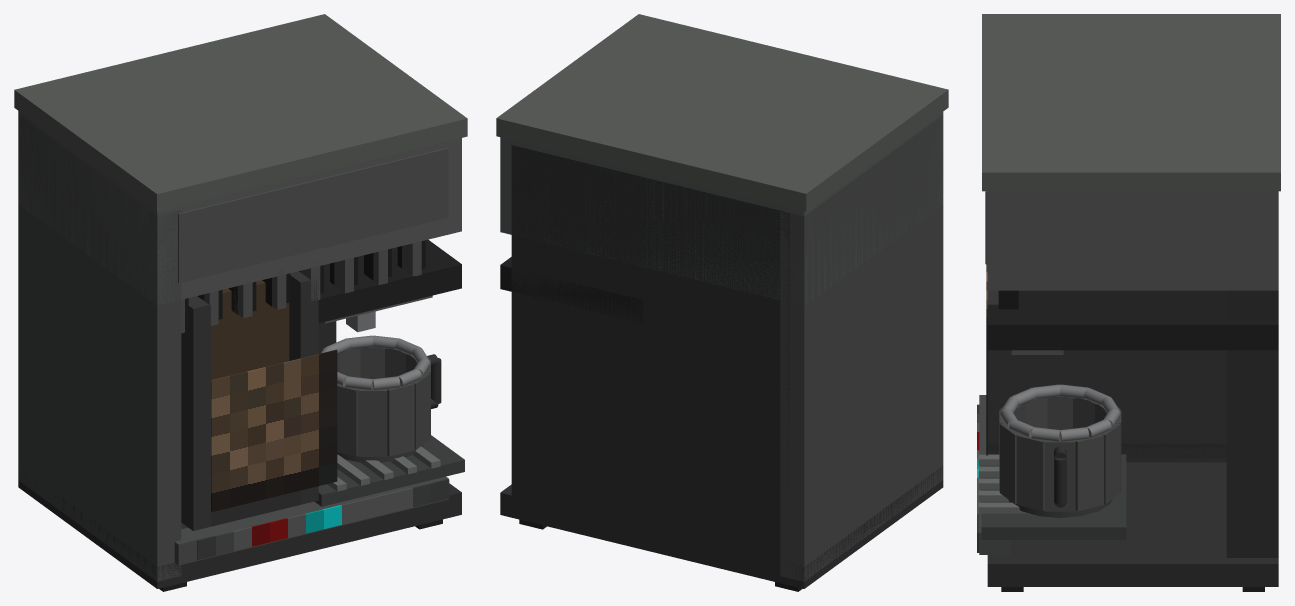
The model's file is CMU3DCoffeeMachineCloud.glb.
3 views of the same model, side by side, from view 1: azimuth 30°, elevation 25°; view 2: azimuth 150°, elevation 25°; view 3: azimuth 270°, elevation 25° (orthographic). The views are drawn at different scales.
Parts seen in each view (by area): view 1: left full height side, separate top cover, top hopper housing, hopper front inset, original coarse bean window, low machine deck, bean reservoir left frame, original red cyan indicator row, dispensing bay roof, source brown reservoir volume, cup tray, bottom control panel (+10 smaller); view 2: machine rear cabinet, left full height side, separate top cover, top hopper housing, low machine deck, dispensing bay roof; view 3: separate top cover, top hopper housing, low machine deck, bean reservoir right frame, dispensing bay roof, machine rear cabinet, cup tray, cup wall facet 1, cup wall facet 11, bean reservoir bottom, cup wall facet 0, cup wall facet 2 (+9 smaller).
Boxes of the visible parts, left/top/right/bottom form: left full height side: left=18, top=114, right=181, bottom=581; separate top cover: left=14, top=14, right=467, bottom=212; top hopper housing: left=18, top=111, right=461, bottom=305; hopper front inset: left=178, top=148, right=448, bottom=283; original coarse bean window: left=211, top=349, right=337, bottom=511; low machine deck: left=18, top=467, right=461, bottom=588; bean reservoir left frame: left=181, top=296, right=210, bottom=530; original red cyan indicator row: left=197, top=479, right=449, bottom=559; dispensing bay roof: left=318, top=239, right=461, bottom=323; source brown reservoir volume: left=211, top=280, right=289, bottom=379; cup tray: left=314, top=435, right=464, bottom=506; bottom control panel: left=174, top=476, right=448, bottom=565; machine rear cabinet: left=511, top=145, right=789, bottom=560; left full height side: left=780, top=116, right=943, bottom=581; separate top cover: left=496, top=14, right=948, bottom=211; top hopper housing: left=500, top=112, right=943, bottom=305; low machine deck: left=500, top=466, right=943, bottom=588; dispensing bay roof: left=500, top=257, right=643, bottom=323; separate top cover: left=982, top=14, right=1280, bottom=191; top hopper housing: left=987, top=191, right=1278, bottom=290; low machine deck: left=987, top=462, right=1278, bottom=586; bean reservoir right frame: left=987, top=350, right=1226, bottom=462; dispensing bay roof: left=987, top=290, right=1278, bottom=350; machine rear cabinet: left=1226, top=290, right=1278, bottom=557; cup tray: left=981, top=454, right=1126, bottom=539; cup wall facet 1: left=1075, top=434, right=1103, bottom=511; cup wall facet 11: left=1016, top=434, right=1045, bottom=511; bean reservoir bottom: left=987, top=443, right=1226, bottom=460; cup wall facet 0: left=1045, top=439, right=1075, bottom=511; cup wall facet 2: left=1101, top=423, right=1120, bottom=503.
Bounding box in the file's own units: 0.5593 × 0.68 × 0.438.
17 materials, 2 textured.
